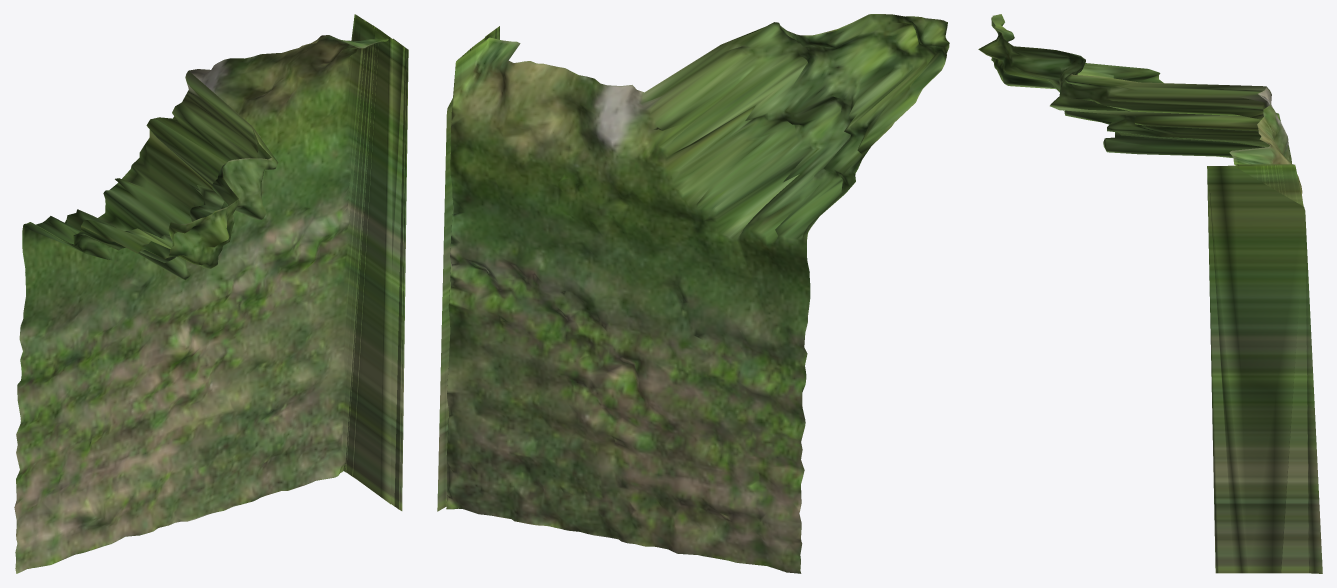
Rendered from map_260_100.obj.
3 views of the same model, side by side, from view 1: azimuth 30°, elevation 25°; view 2: azimuth 150°, elevation 25°; view 3: azimuth 270°, elevation 25° (orthographic). The views are drawn at different scales.
Size of the model in its own units: 8 by 10 by 7.66.
Materials: 1 (1 with a texture image).
